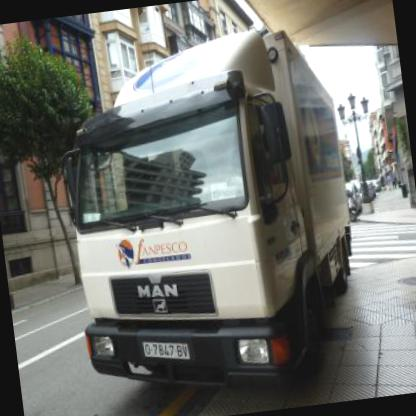truck: (52, 18, 370, 413)
